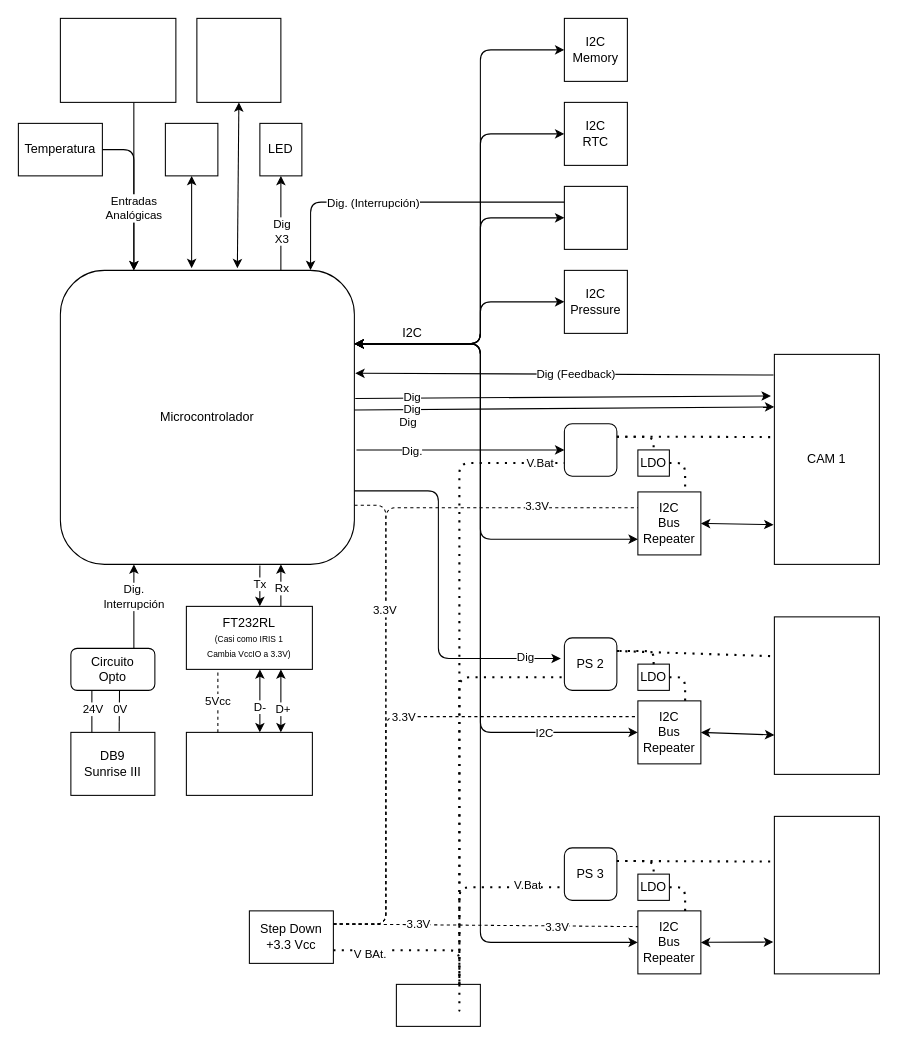
Some shapes in this 898 by 1045 pixel diagram are drawn without their labels. The box of each missing label's shape, as (x1, y1, x2, y2) in pixels:
Baterías: (59, 17, 176, 102)
CAM 2: (773, 616, 879, 774)
CAM 3: (773, 815, 879, 974)
I2C IMU: (563, 185, 627, 249)
ICSP: (164, 122, 218, 176)
PS 1: (563, 423, 617, 476)
SD (Igual que IRIS1): (196, 17, 281, 102)
USB: (185, 731, 312, 795)
V. Bat.: (395, 983, 480, 1026)
